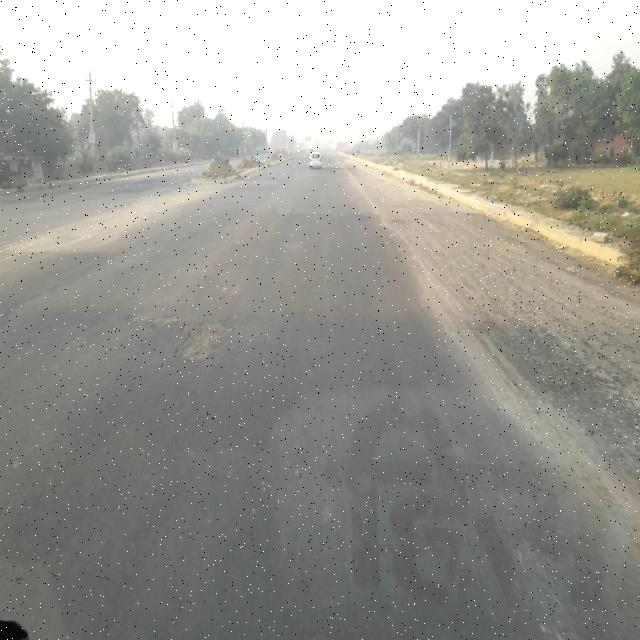D40: (173, 318, 231, 366), (117, 292, 175, 340)
